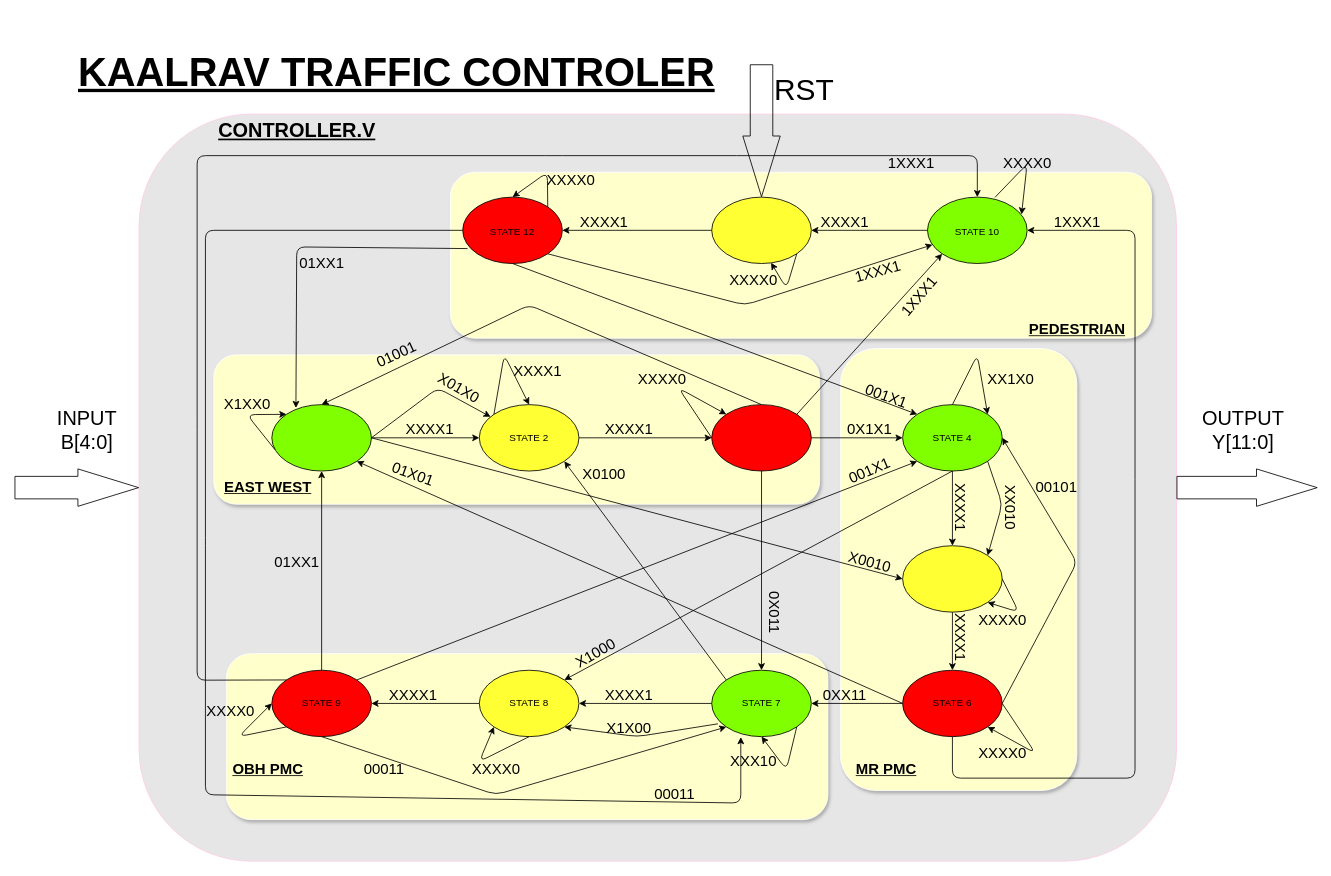
Some shapes in this 1331 by 876 pixel diagram are drawn without their labels. The shapes that lost their labels are listed below. From the top down, each one's centre as x and y in pixels, then its label:
At pixel 761 230: "STATE 11".
At pixel 321 437: "STATE 1".
At pixel 761 437: "STATE 3".
At pixel 952 578: "STATE 5".
